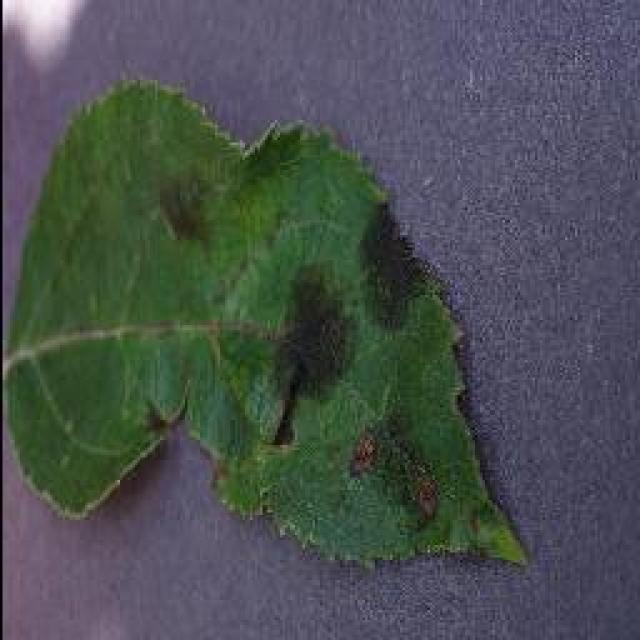apple scab disease: (2, 75, 530, 570)
